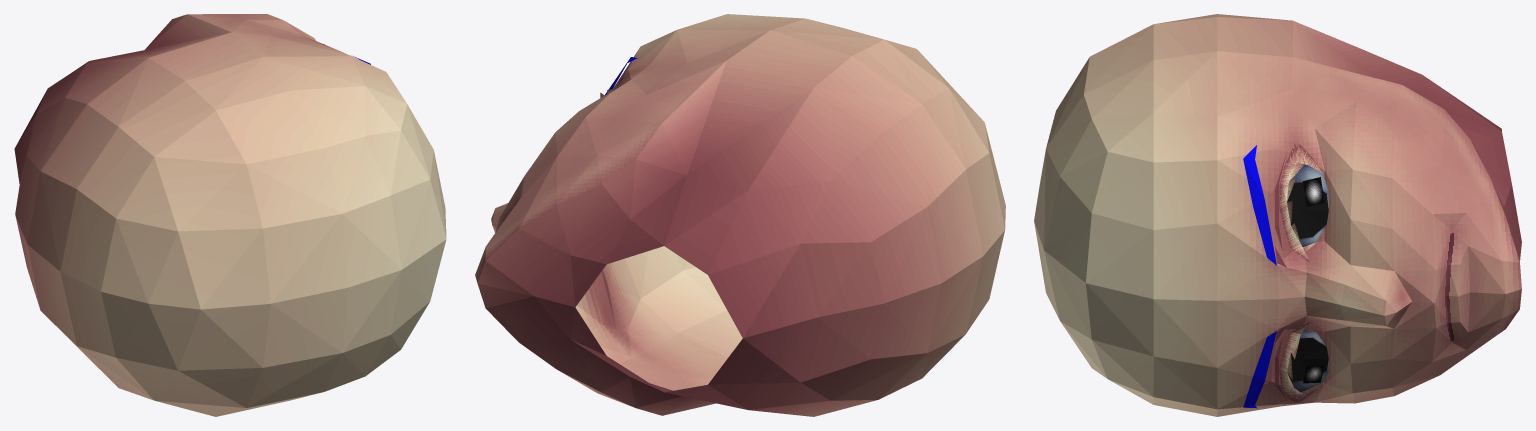
Rendered from Npc_60063.obj.
3 views of the same model, side by side, from view 1: azimuth 30°, elevation 25°; view 2: azimuth 150°, elevation 25°; view 3: azimuth 270°, elevation 25° (orthographic). The views are drawn at different scales.
Parts seen in each view (by area): view 1: Npc_60063; view 2: Npc_60063; view 3: Npc_60063.
Part boxes in pixels (box(x1,y1,x2,y2)): Npc_60063: box(14, 14, 446, 416); Npc_60063: box(475, 14, 1005, 416); Npc_60063: box(1034, 14, 1521, 416).
Bounding box in the file's own units: 0.4194 × 0.342 × 0.441.
3 materials, 2 textured.
